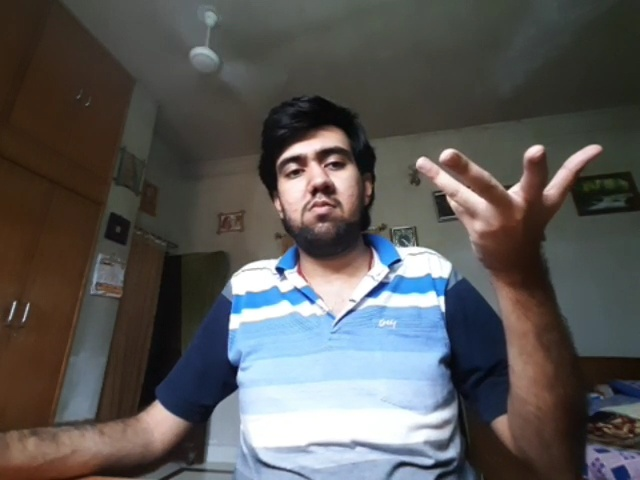What: (415, 143, 603, 260)
